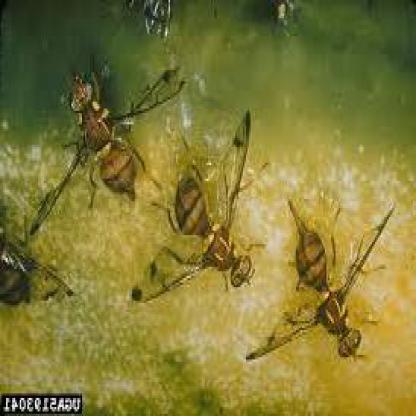fruit fly: (132, 114, 258, 301), (34, 74, 183, 232), (249, 202, 395, 361)
